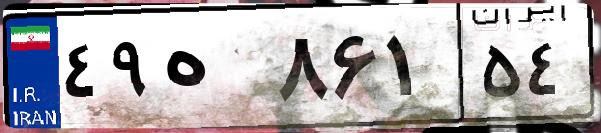1: (385, 28, 445, 110)
4: (57, 26, 110, 100), (525, 38, 570, 115)
5: (475, 38, 525, 113)
6: (330, 28, 385, 110)
8: (270, 28, 330, 110)
9: (110, 28, 158, 98)
ه: (158, 20, 270, 120)
